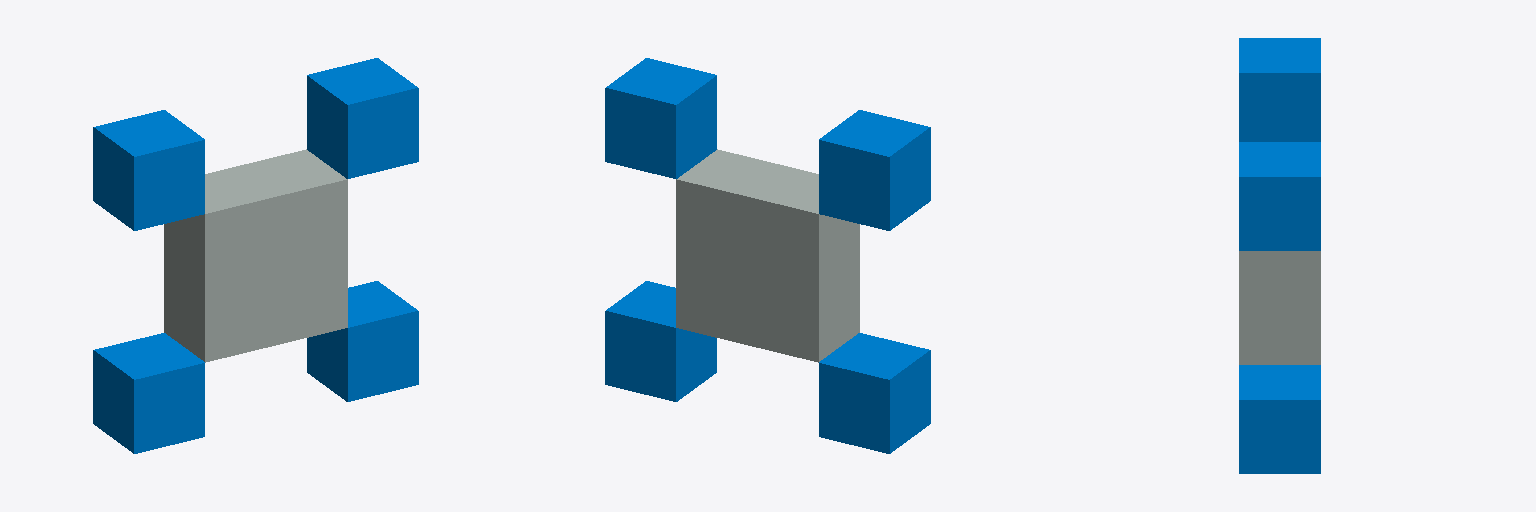
3 views of the same model, side by side, from view 1: azimuth 30°, elevation 25°; view 2: azimuth 150°, elevation 25°; view 3: azimuth 270°, elevation 25° (orthographic).
Visible parts, largest first — view 1: object 1; view 2: object 1; view 3: object 1.
Boxes of the visible parts, box(x1,y1,x2,y2) form: object 1: box(93, 58, 418, 453); object 1: box(605, 58, 930, 453); object 1: box(1239, 38, 1320, 473).
Bounding box in the file's own units: 0.4 × 0.4 × 0.1.
1 materials, 1 textured.